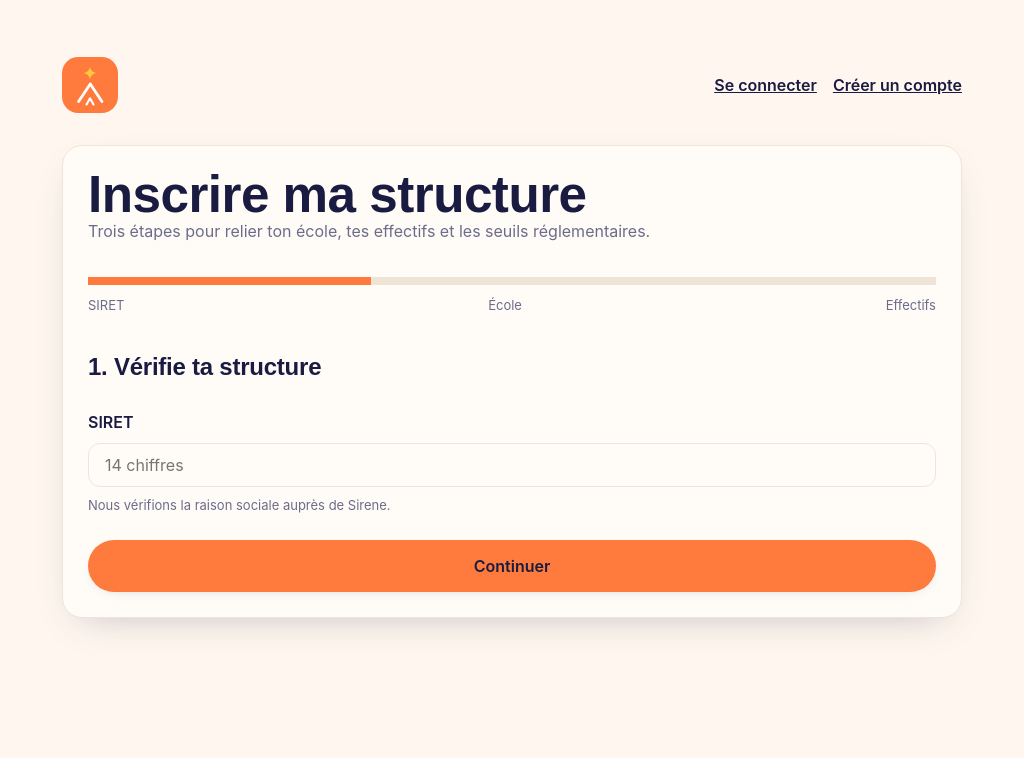
Test: parcours critiques F16 › inscription structure nominale en trois étapes
Type "73282932000074" into the field labelled "SIRET Nous vérifions la raison sociale auprès de Sirene.". click: (512, 465)
box: [88,443,936,487]
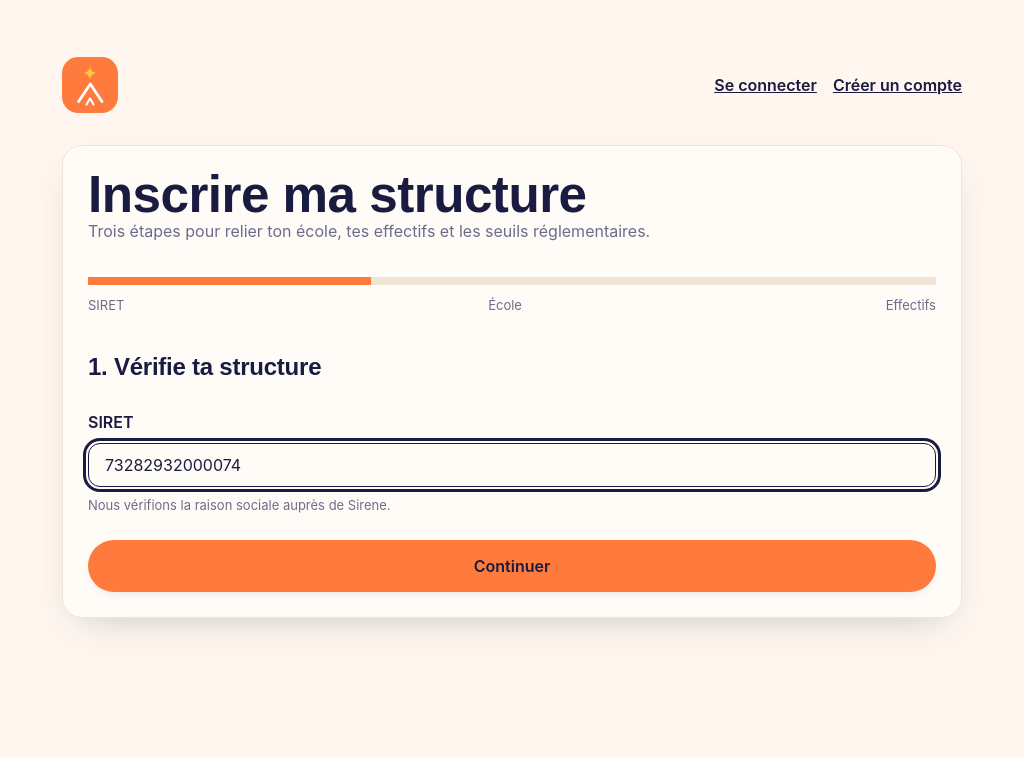
Click the button "Continuer". click: (512, 566)
box: [88,540,936,592]
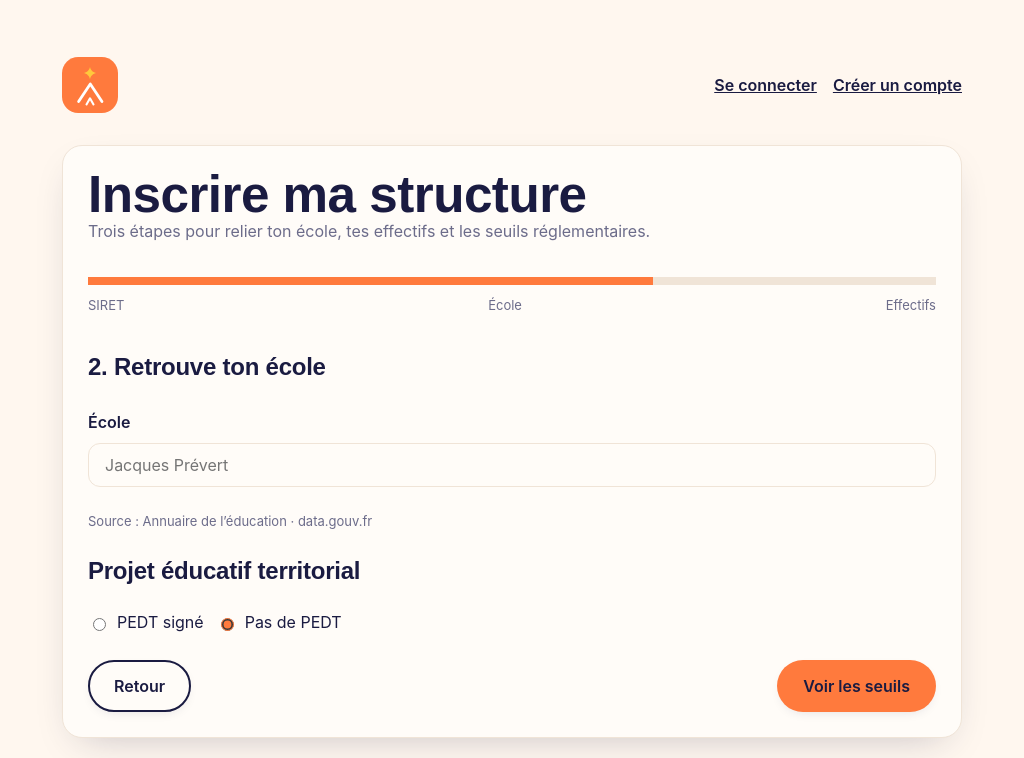
Type "Jacques" into the field with placeholder "Jacques Prévert". click: (512, 465)
box: [88,443,936,487]
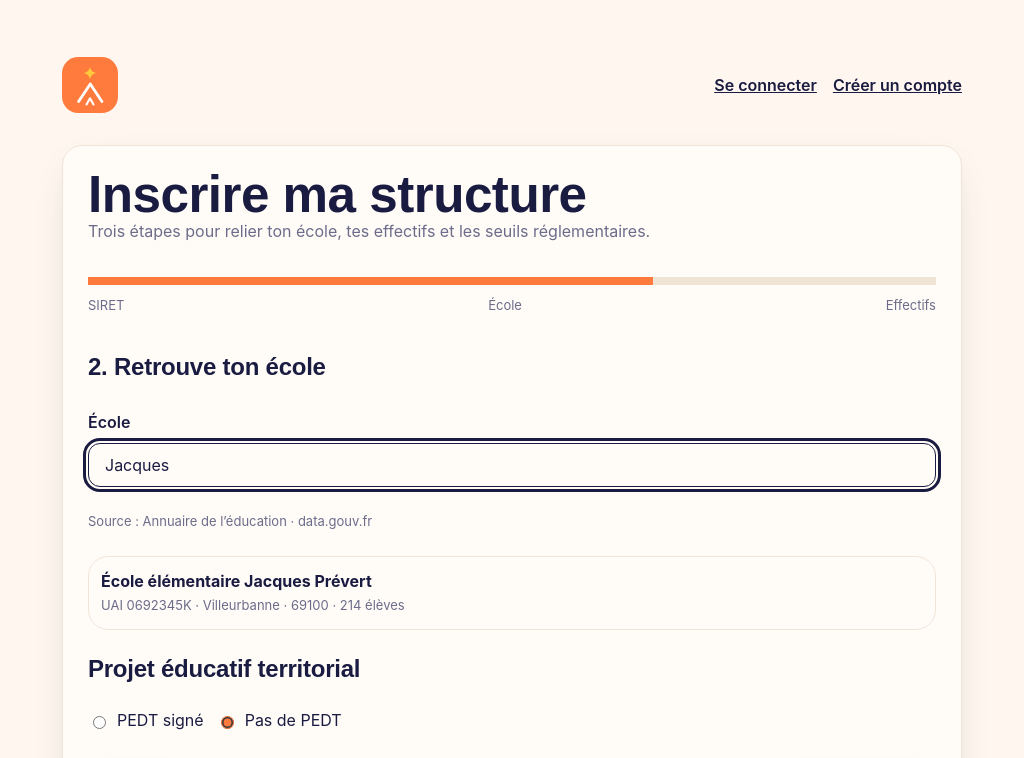
Now the option "École élémentaire Jacques Prévert" is shown
Click the option "École élémentaire Jacques Prévert". click: (236, 581)
box: [88,556,936,630]
(page scrolled)
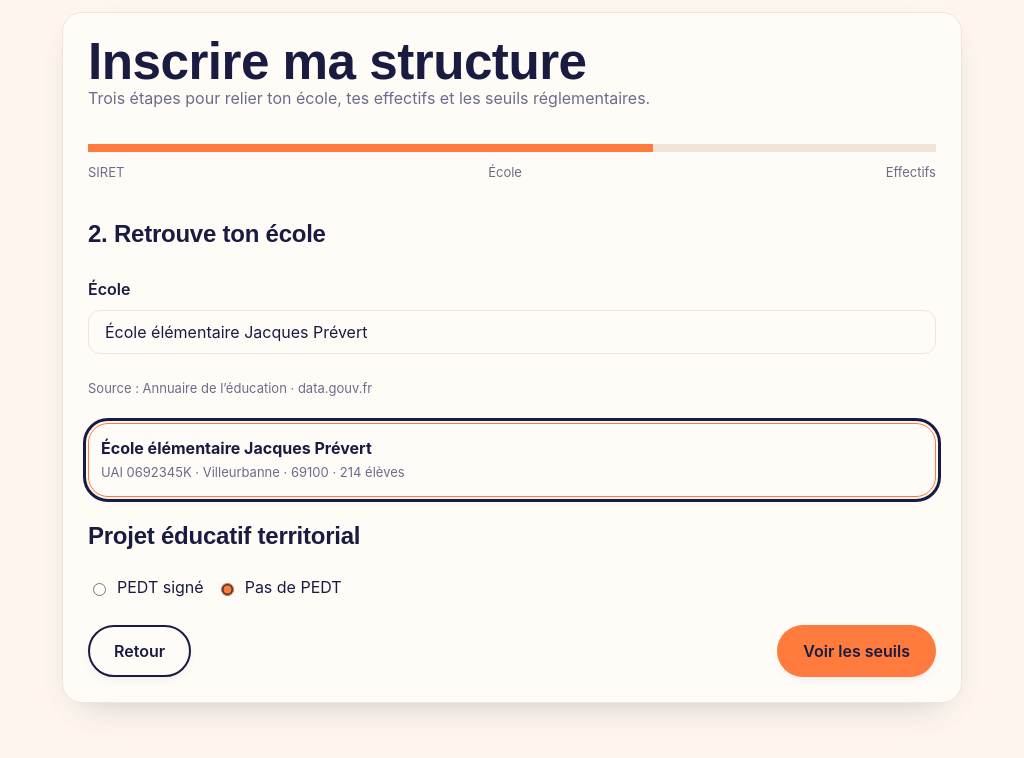
Click the button "Voir les seuils". click: (857, 651)
box: [777,625,936,677]
(page scrolled)
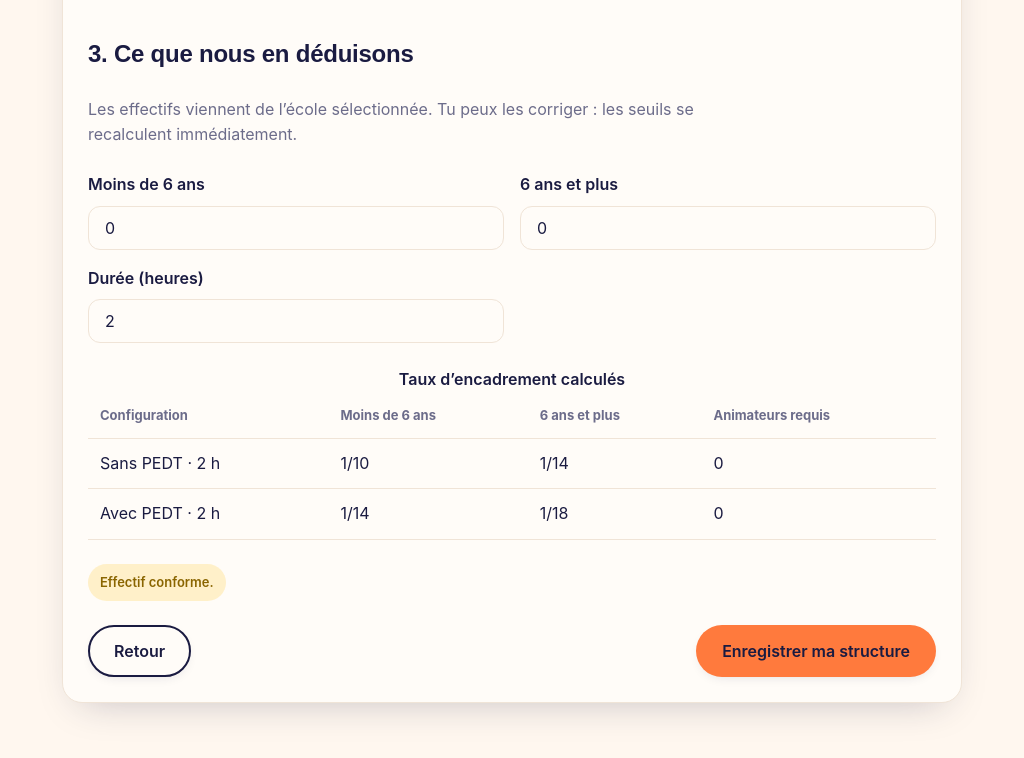
Now the heading "3. Ce que nous en déduisons" is shown, box [88,40,414,67]
Click the button "Enregistrer ma structure". click: (816, 651)
box: [696,625,936,677]
(page scrolled)
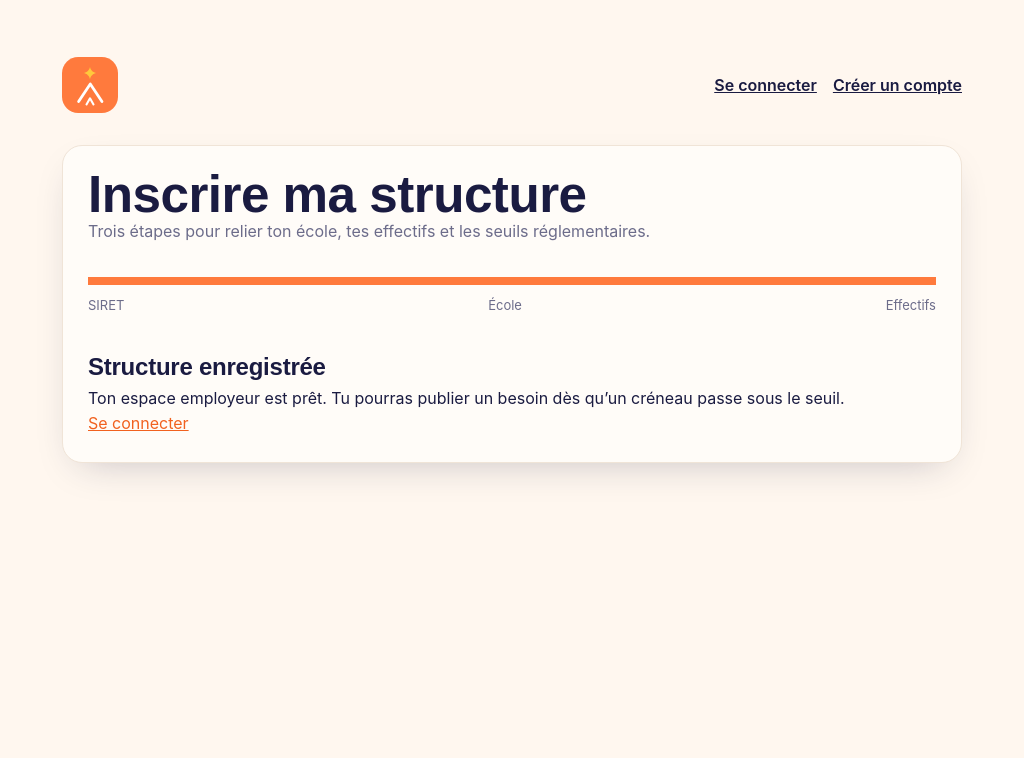
Now the heading "Structure enregistrée" is shown, box [88,353,326,380]
